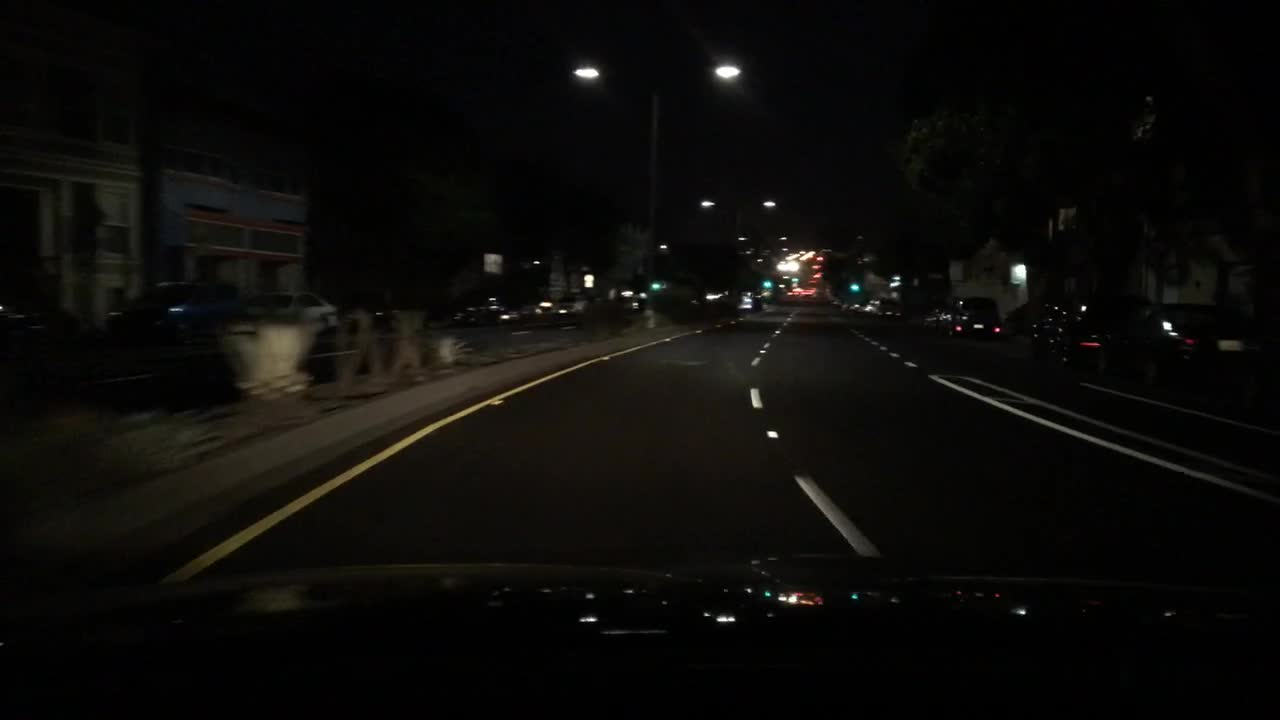car: (1126, 301, 1267, 384), (1003, 295, 1146, 373), (103, 273, 254, 341), (0, 292, 80, 365), (245, 286, 340, 332), (954, 296, 1003, 341), (455, 296, 521, 329), (512, 296, 563, 322), (561, 292, 593, 319), (939, 301, 960, 330), (920, 304, 943, 327), (879, 299, 903, 321), (739, 289, 761, 312), (715, 292, 739, 313), (621, 292, 645, 310), (862, 299, 880, 316), (797, 284, 814, 298), (833, 295, 847, 307), (847, 301, 860, 313)
traffic light: (851, 279, 864, 296), (764, 279, 776, 292)
